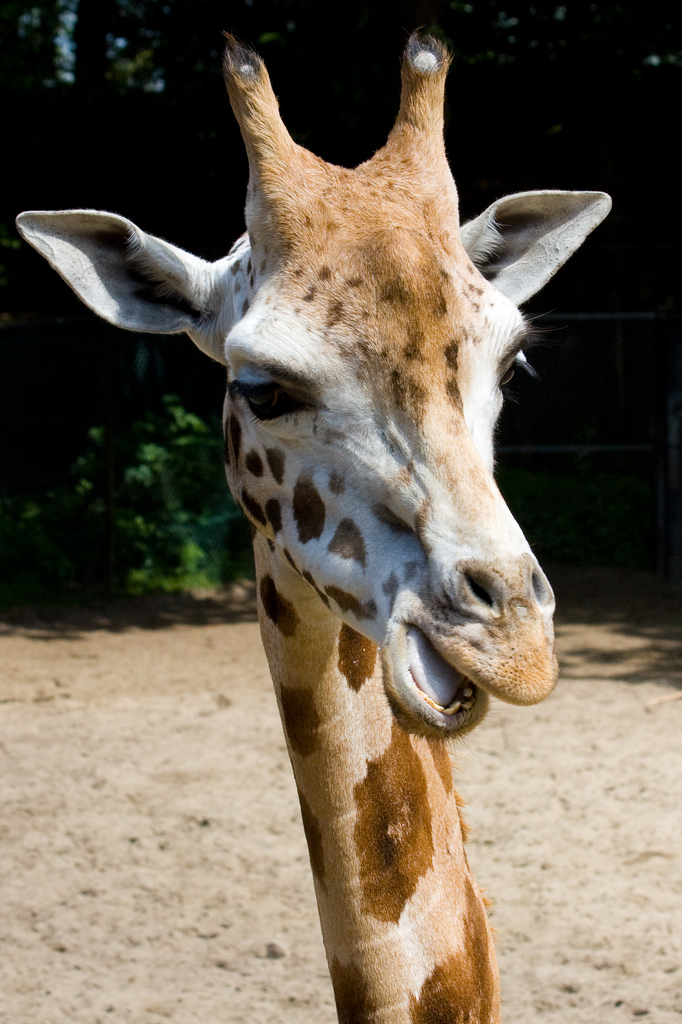giraffe: (81, 31, 608, 963)
